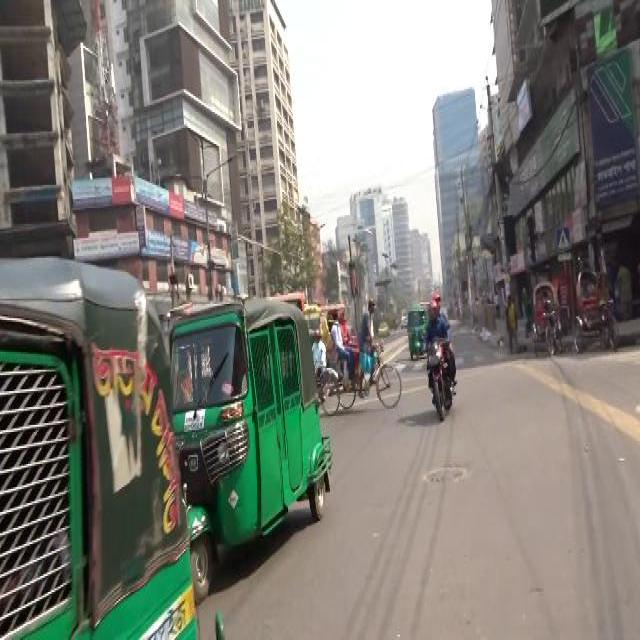bus: (303, 302, 346, 334)
car: (376, 318, 389, 336)
motorcycle: (0, 240, 202, 633), (167, 290, 332, 608), (317, 297, 403, 409), (423, 290, 454, 425), (574, 267, 615, 352), (531, 278, 563, 358), (406, 306, 426, 359)
